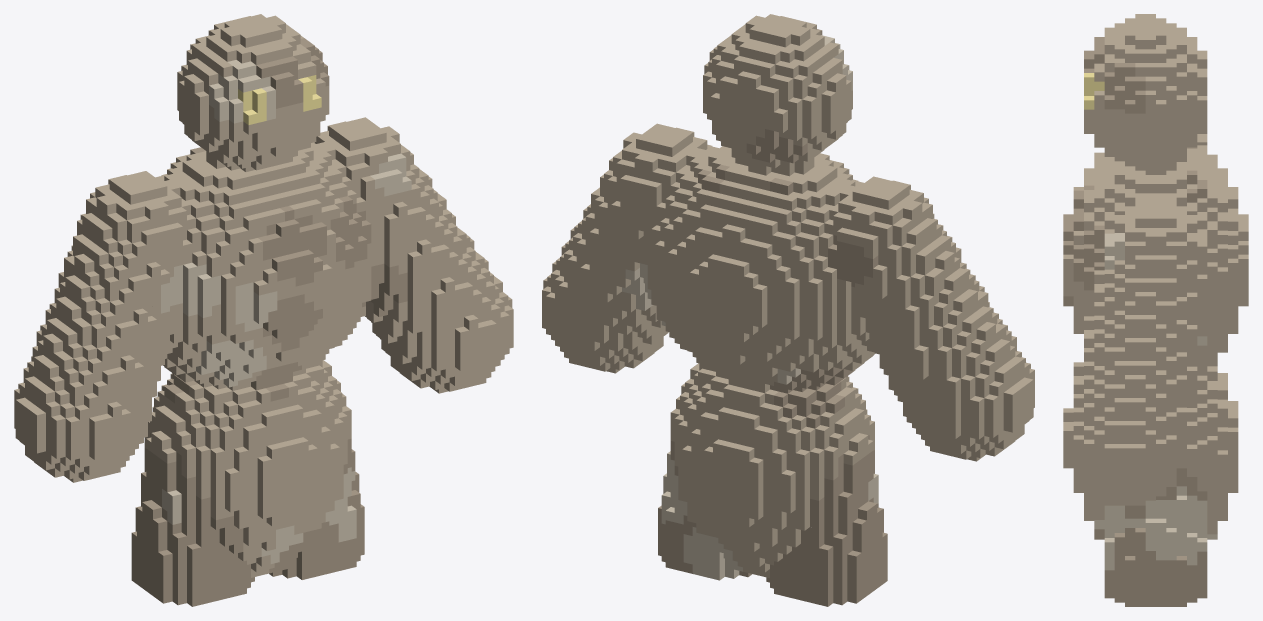
File: earth_elemental.glb
3 renders of one model, left to right at view 1: azimuth 30°, elevation 25°; view 2: azimuth 150°, elevation 25°; view 3: azimuth 270°, elevation 25°, orthographic. The views are drawn at different scales.
Parts seen in each view (by area): view 1: item; view 2: item; view 3: item.
Part boxes in pixels (box(x1,y1,x2,y2)): item: box(14, 14, 513, 606); item: box(542, 14, 1034, 606); item: box(1063, 14, 1248, 606).
Bounding box in the file's own units: 52 × 57 × 18.
